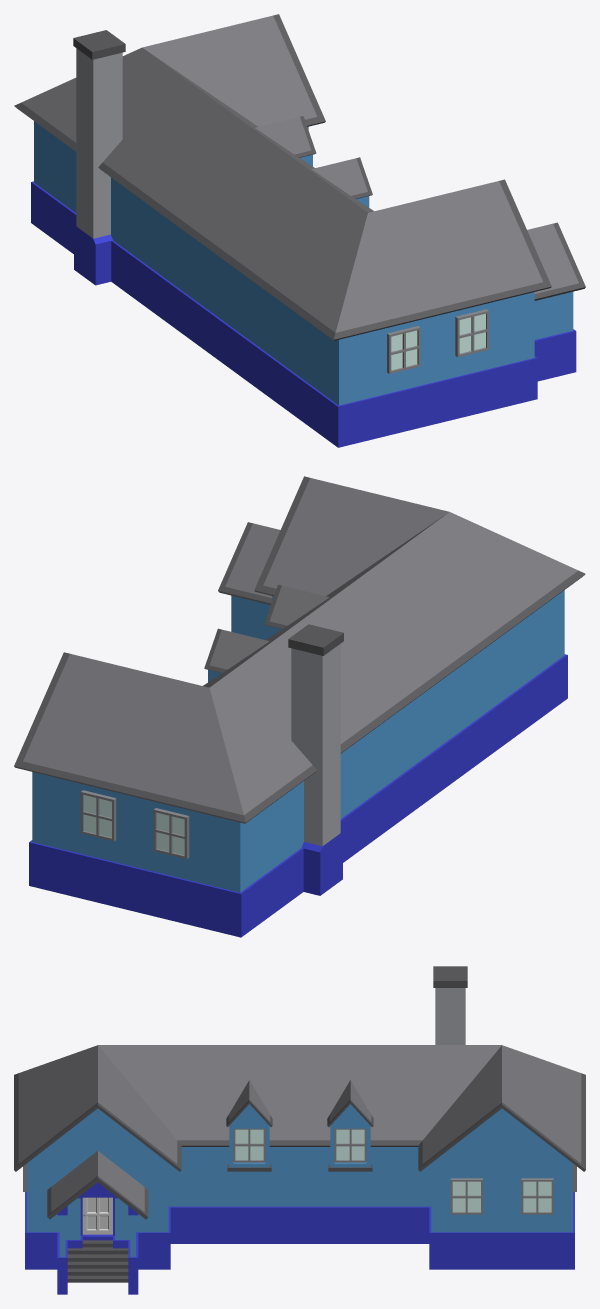
Rendered from JakesHouse.fbx.
3 renders of one model, top to bottom at view 1: azimuth 30°, elevation 25°; view 2: azimuth 150°, elevation 25°; view 3: azimuth 270°, elevation 25°, orthographic. The views are drawn at different scales.
Visible parts, largest first — view 1: Jakes_House; view 2: Jakes_House; view 3: Jakes_House.
Part boxes in pixels (bbox=[...]): Jakes_House: bbox=[14, 14, 585, 447]; Jakes_House: bbox=[14, 476, 585, 937]; Jakes_House: bbox=[14, 966, 585, 1294].
Size of the model in its own units: 14.2 by 11.38 by 28.3.
